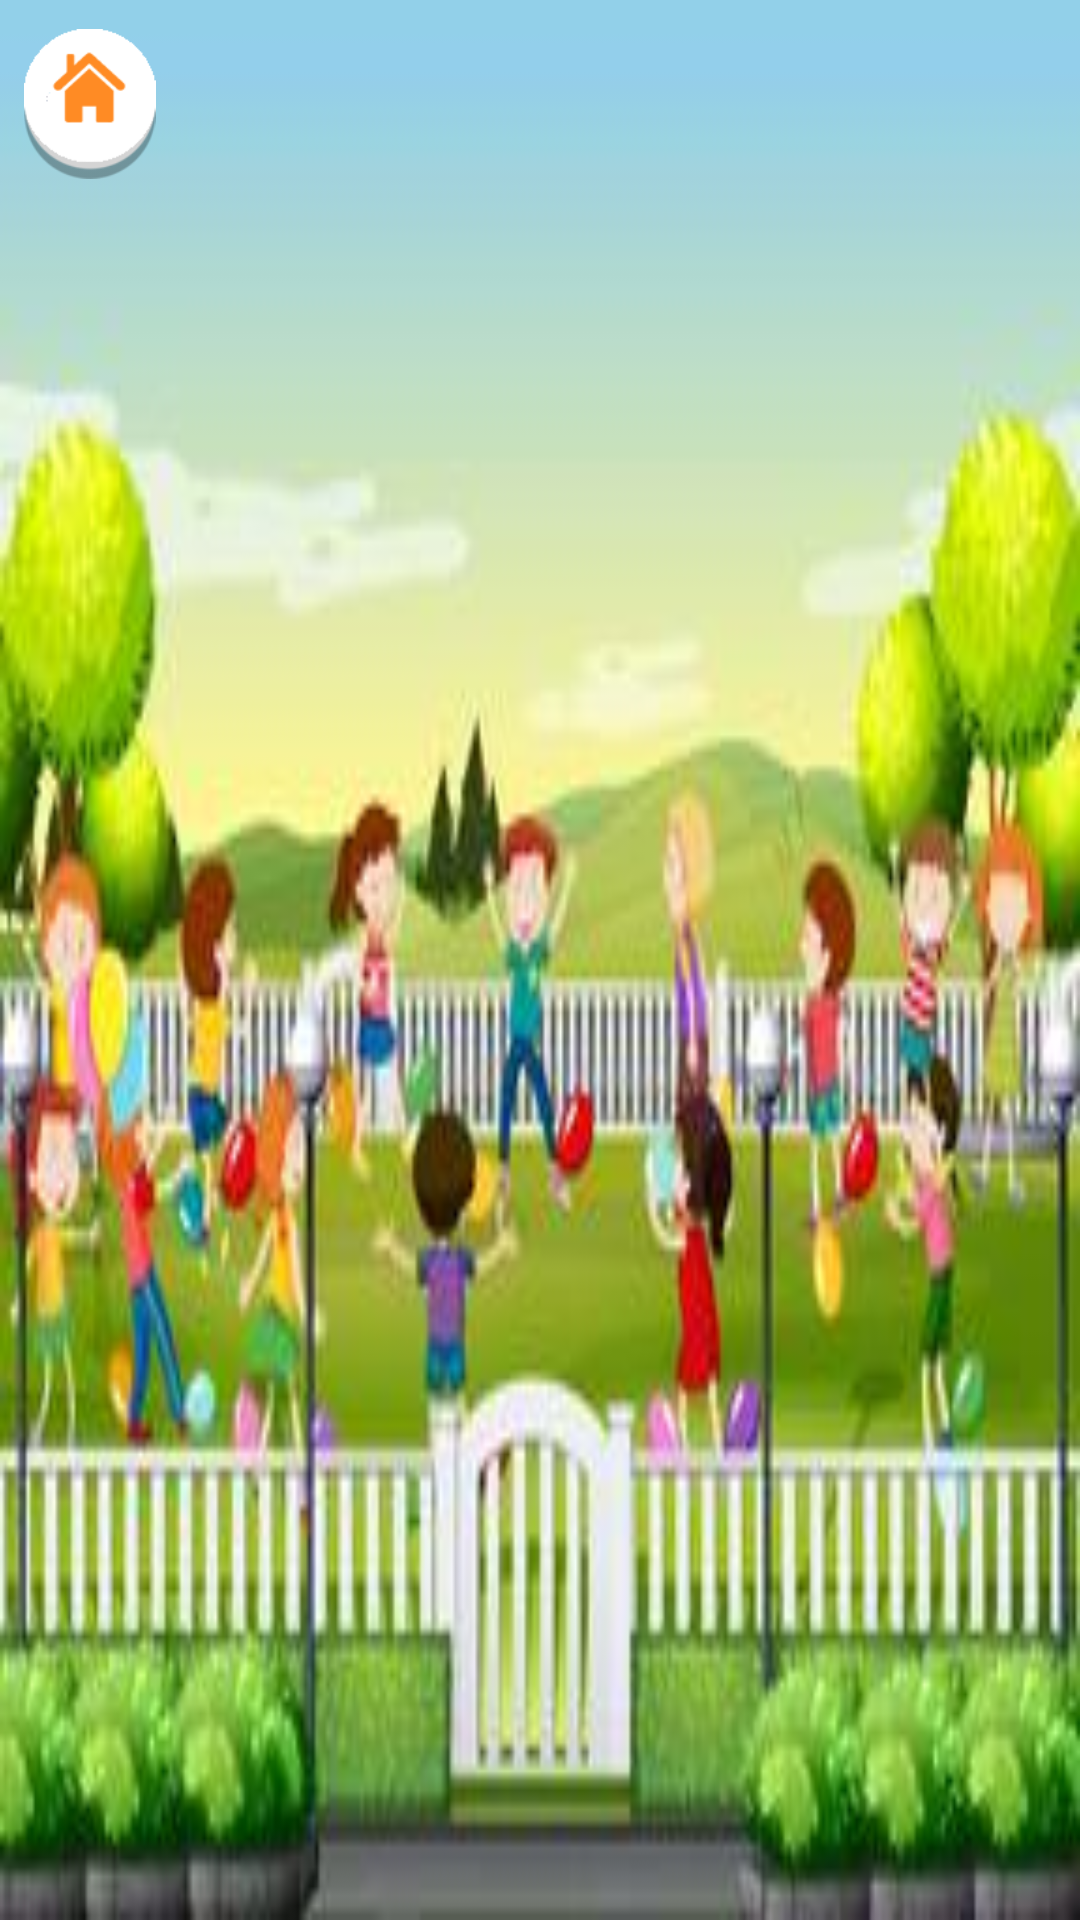

Named icons in this screenshot (1080px×1920px) and their centers, (x,y):
home: (90,104)
